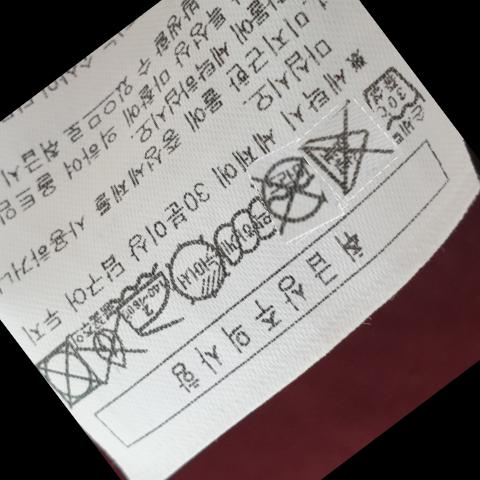DN_dry_clean: (264, 157, 321, 228)
DN_tumble_dry: (47, 335, 97, 409)
dry_flat_in_shade: (176, 239, 227, 307)
hand_wash: (373, 73, 431, 143)
iron_medium: (120, 270, 178, 341)
non_chlorine_bleach: (311, 119, 377, 187)
wring: (215, 200, 275, 270)
